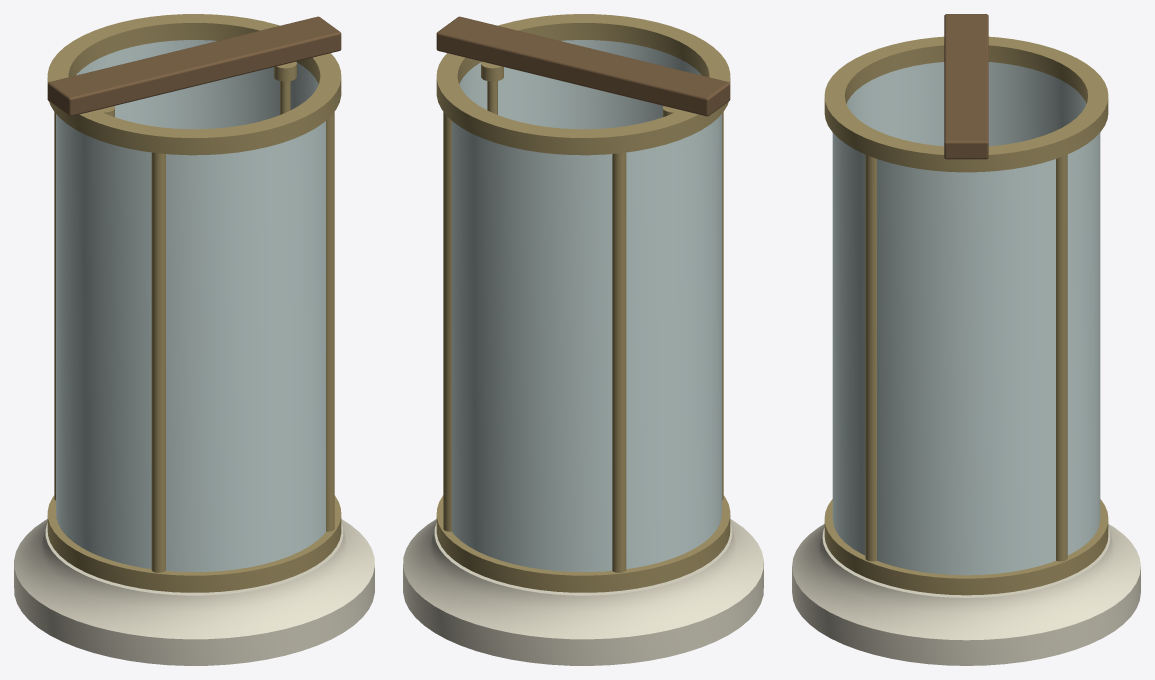
File: water-clock-garden-and-hydraulic-puzzles-cylindrical-f-4957bd86__31922.glb
3 views of the same model, side by side, from view 1: azimuth 30°, elevation 25°; view 2: azimuth 150°, elevation 25°; view 3: azimuth 270°, elevation 25° (orthographic). The views are drawn at different scales.
Parts seen in each view (by area): view 1: cylindrical-float-clock-tower; view 2: cylindrical-float-clock-tower; view 3: cylindrical-float-clock-tower.
Boxes of the visible parts, x1=… form: cylindrical-float-clock-tower: x1=14, y1=14, x2=374, y2=665; cylindrical-float-clock-tower: x1=403, y1=14, x2=763, y2=665; cylindrical-float-clock-tower: x1=792, y1=14, x2=1140, y2=665.
Size of the model in its own units: 1.72 by 2.8 by 1.72.
